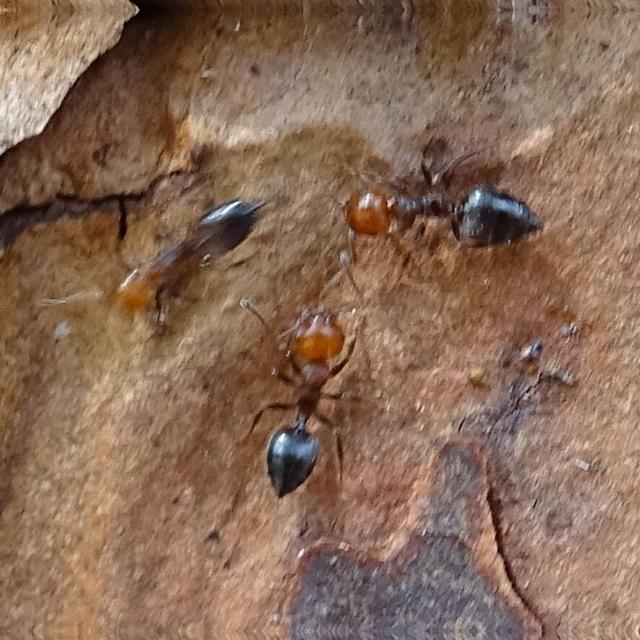Crematogaster: (91, 184, 272, 330), (323, 148, 554, 262), (238, 295, 360, 497)
